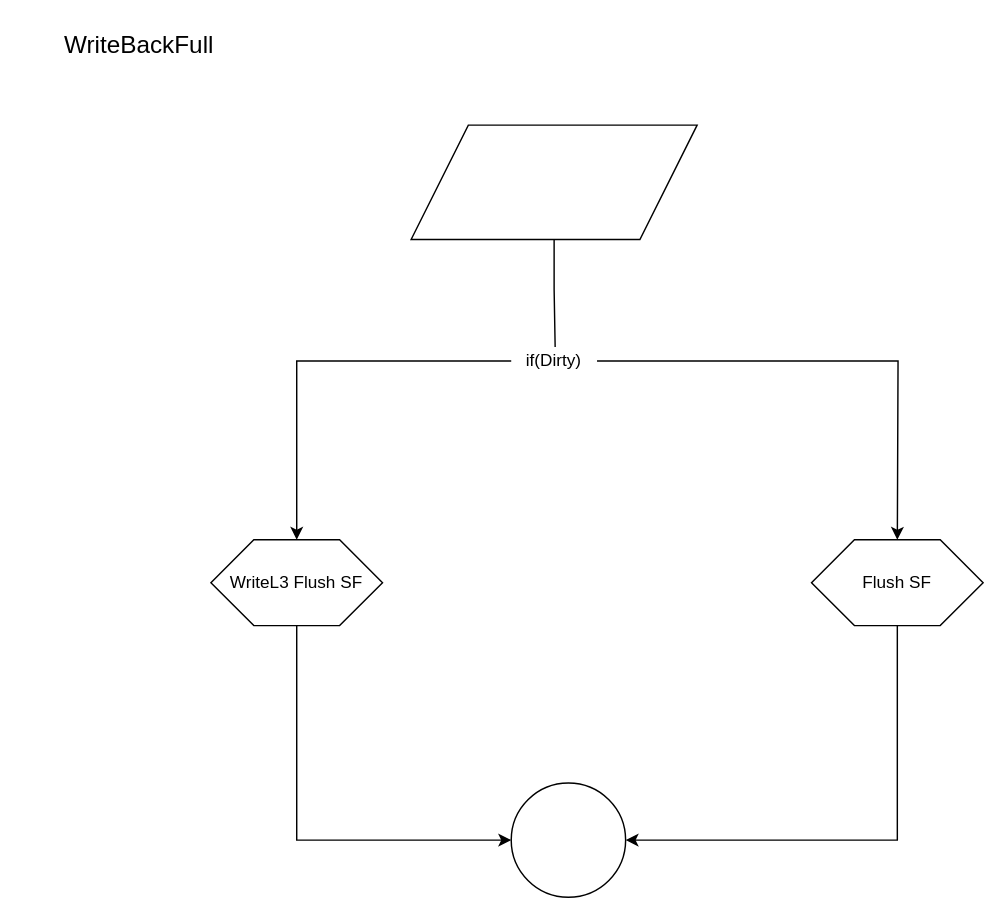
Some shapes in this 1008 by 922 pixel diagram are drawn without their labels. Each missing label, with the centre of its shape:
"Exit" goes at pixel 568 839.
"Tx compDBIDResp" goes at pixel 553 182.
